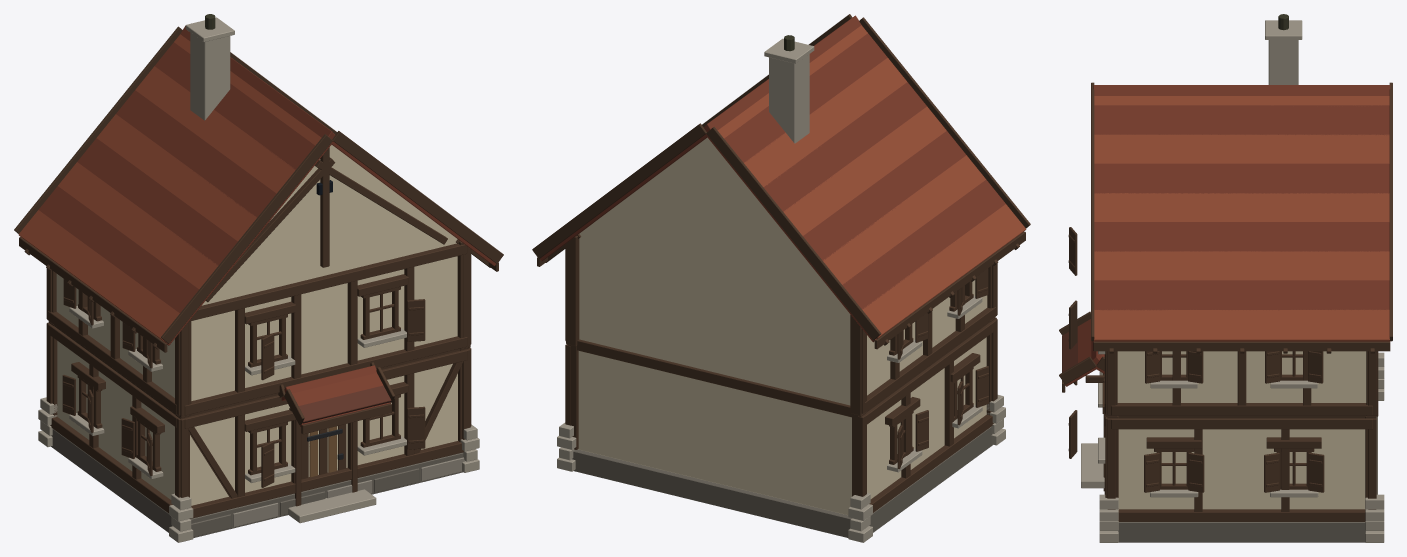
The model's file is V_Maison_A.glb.
3 renders of one model, left to right at view 1: azimuth 30°, elevation 25°; view 2: azimuth 150°, elevation 25°; view 3: azimuth 270°, elevation 25°, orthographic.
Parts seen in each view (by area): view 1: V_Maison_A; view 2: V_Maison_A; view 3: V_Maison_A.
Boxes of the visible parts, x1,y1,x2,y2 form: V_Maison_A: (14, 14, 503, 542); V_Maison_A: (532, 14, 1030, 542); V_Maison_A: (1059, 14, 1392, 542).
Size of the model in its own units: 8 by 9.82 by 6.65.
